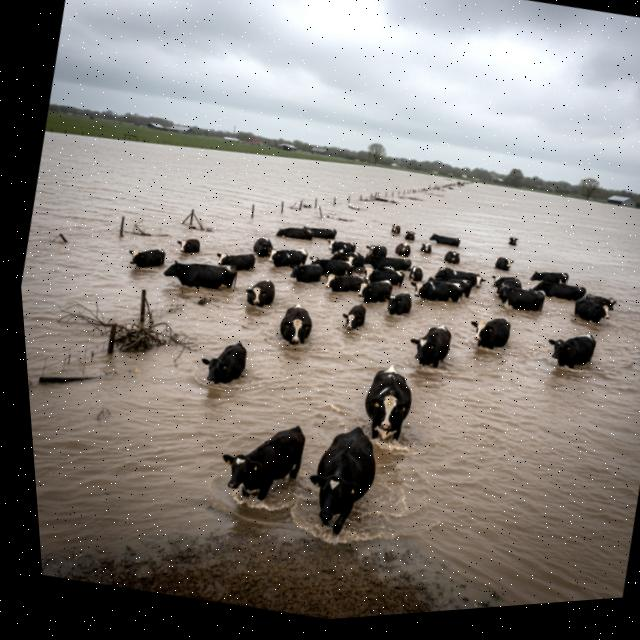cow: (291, 416, 393, 549), (207, 408, 321, 516), (348, 355, 425, 454), (157, 246, 247, 304), (190, 329, 258, 398), (538, 323, 606, 383), (403, 310, 462, 379), (461, 306, 520, 361), (271, 297, 322, 355), (407, 271, 472, 313), (434, 260, 491, 305), (525, 270, 590, 309), (119, 234, 174, 279), (492, 280, 549, 320), (302, 249, 359, 286), (240, 268, 283, 315), (347, 270, 397, 310), (318, 264, 370, 301), (568, 292, 614, 333), (263, 239, 312, 276), (422, 271, 475, 305), (208, 245, 261, 278), (358, 247, 413, 278), (358, 259, 407, 292), (335, 297, 374, 338), (526, 261, 575, 291), (284, 257, 326, 292), (485, 270, 531, 301), (380, 284, 417, 320), (580, 288, 621, 318), (425, 226, 466, 255), (273, 222, 316, 248), (322, 230, 360, 259), (326, 244, 366, 271), (299, 220, 340, 246), (172, 234, 204, 262), (250, 231, 278, 261), (404, 259, 430, 289), (360, 238, 393, 261), (440, 246, 466, 270), (392, 237, 415, 260), (493, 253, 517, 274), (502, 230, 523, 252), (417, 238, 436, 258), (401, 225, 419, 246), (385, 220, 403, 238)
